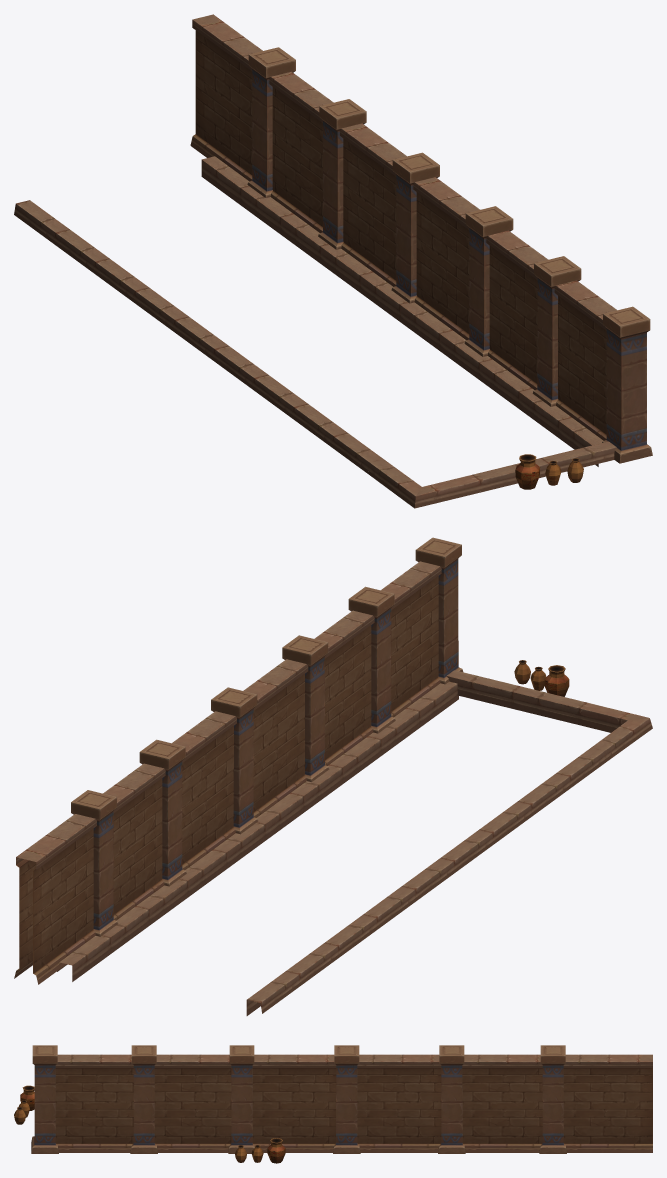
Rendered from Area_09_2.FBX.
The picture shows the model from 3 angles, top to bottom: view 1: azimuth 30°, elevation 25°; view 2: azimuth 150°, elevation 25°; view 3: azimuth 270°, elevation 25°; orthographic projection. The views are drawn at different scales.
Visible parts, largest first — view 1: Area_09_2; view 2: Area_09_2; view 3: Area_09_2.
Part boxes in pixels (x1,y1,x2,y2): Area_09_2: (14,14,652,508); Area_09_2: (14,537,652,1015); Area_09_2: (14,1045,652,1163).
Bounding box in the file's own units: 1027 × 534 × 2922.
